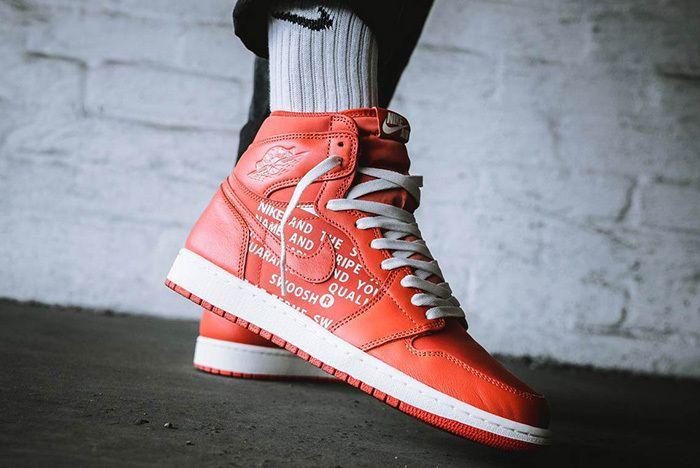Jordan 1: (159, 102, 557, 460)
